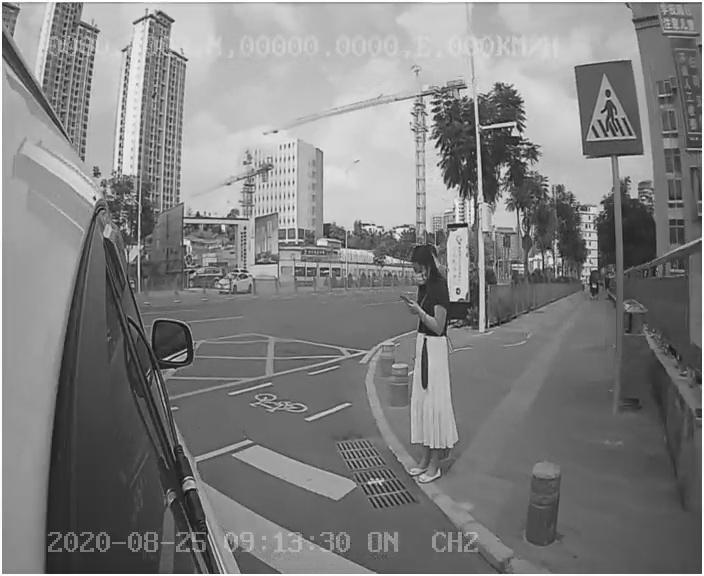person: (394, 246, 465, 487)
